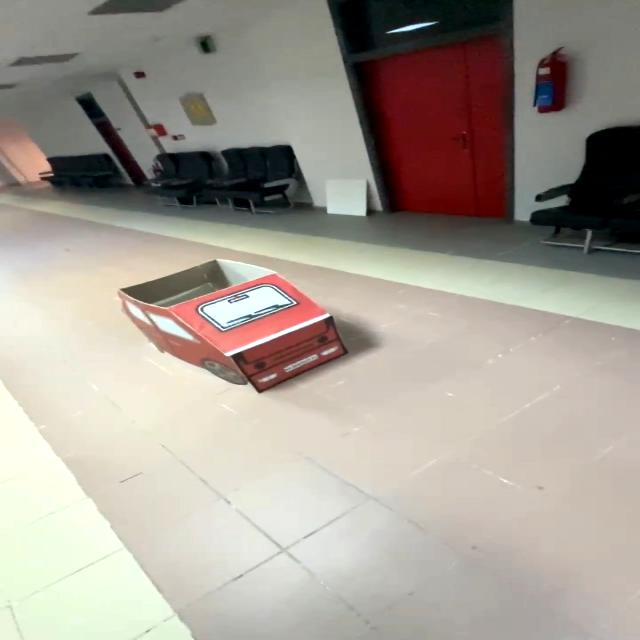red_car: (95, 248, 407, 402)
